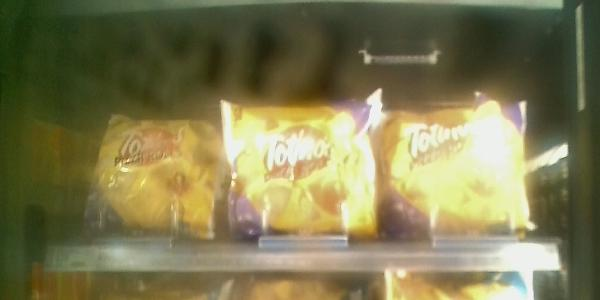icecream: (220, 99, 391, 263), (373, 94, 542, 254), (85, 97, 224, 251)
